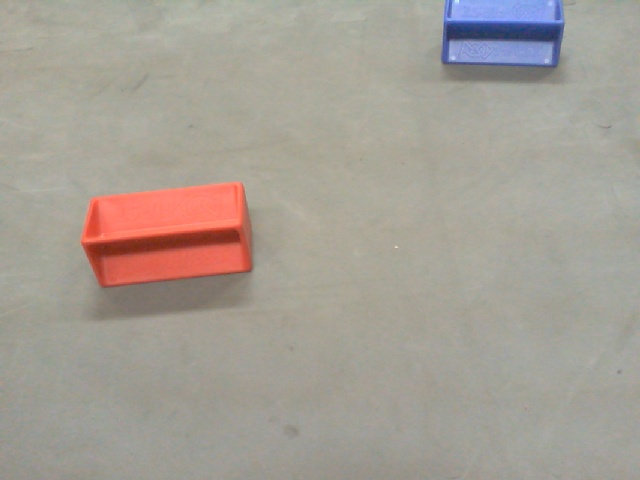BlueSample: (437, 1, 568, 67)
RedSample: (78, 179, 259, 290)
